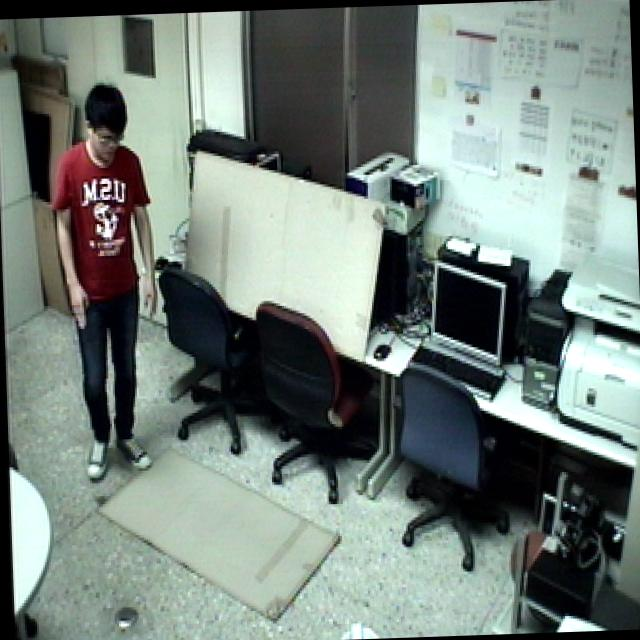stand: (38, 72, 180, 494)
